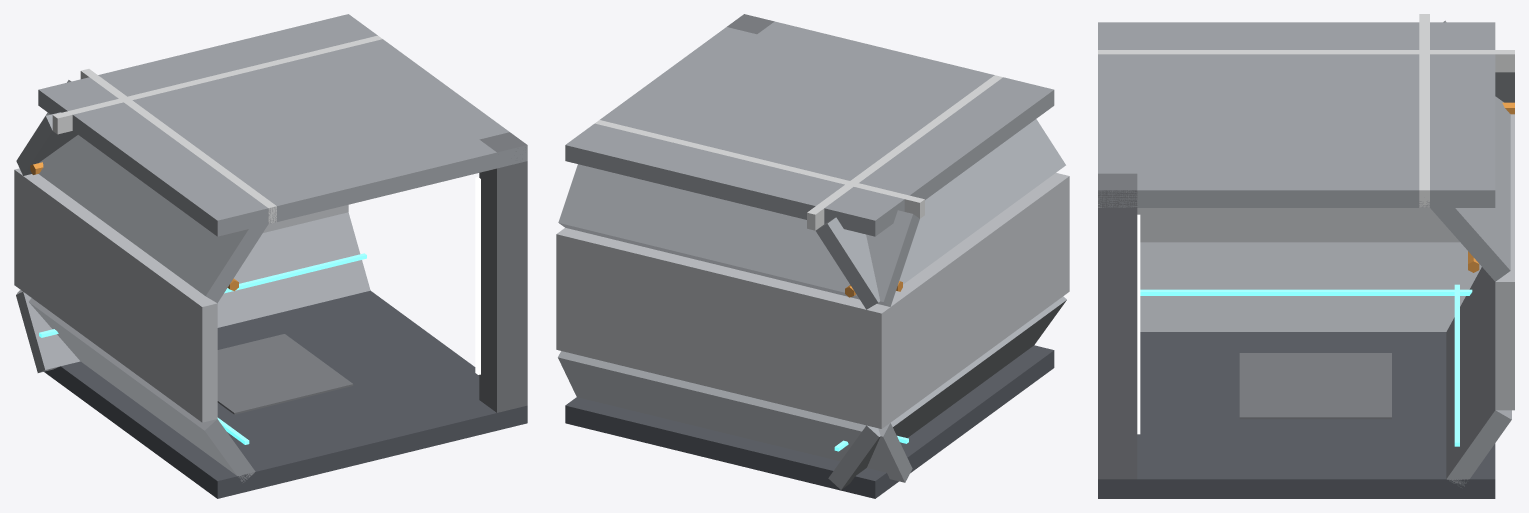
The model's file is SM_Corridor_Corner.glb.
3 views of the same model, side by side, from view 1: azimuth 30°, elevation 25°; view 2: azimuth 150°, elevation 25°; view 3: azimuth 270°, elevation 25° (orthographic). The views are drawn at different scales.
Visible parts, largest first — view 1: SM_Corridor_Corner; view 2: SM_Corridor_Corner; view 3: SM_Corridor_Corner.
Part boxes in pixels (bbox=[...]): SM_Corridor_Corner: bbox=[14, 14, 527, 498]; SM_Corridor_Corner: bbox=[556, 14, 1069, 498]; SM_Corridor_Corner: bbox=[1098, 14, 1514, 498].
Size of the model in its own units: 3.83 by 3.13 by 3.83.
